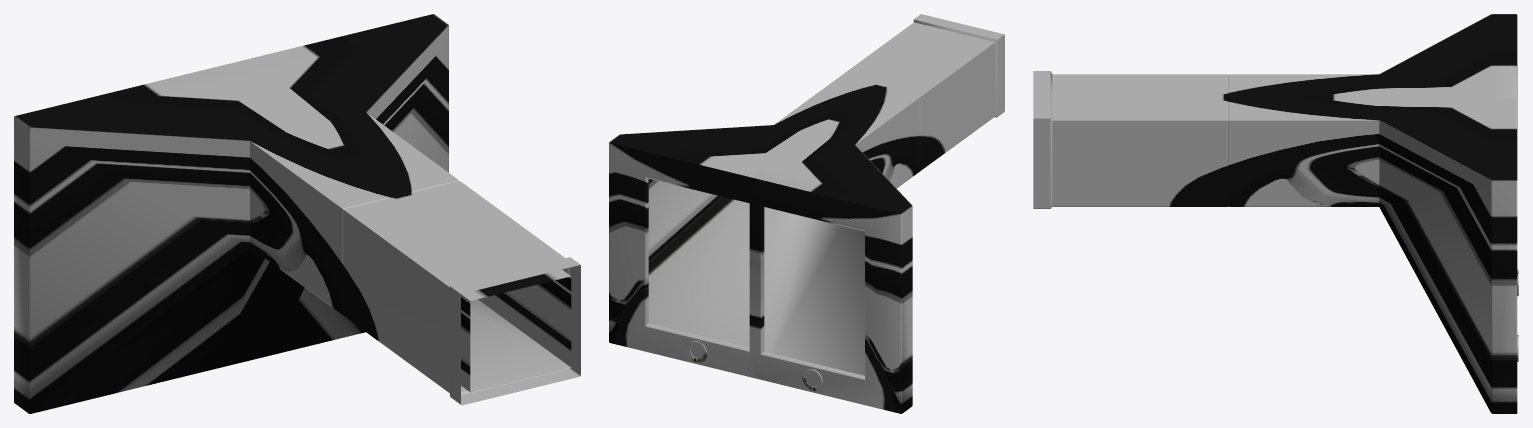
Rendered from Extractor.obj.
3 renders of one model, left to right at view 1: azimuth 30°, elevation 25°; view 2: azimuth 150°, elevation 25°; view 3: azimuth 270°, elevation 25°, orthographic. The views are drawn at different scales.
Size of the model in its own units: 0.7614 by 0.5077 by 0.937.
